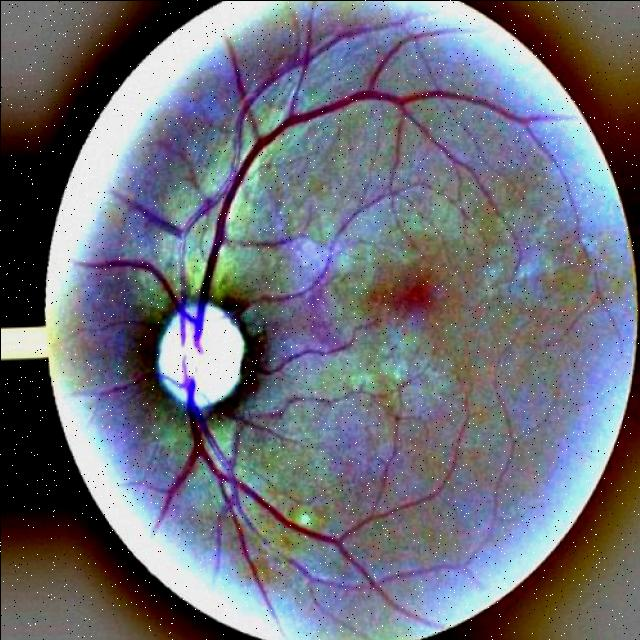Macula: (380, 271, 449, 323)
Nerves: (168, 83, 539, 358), (157, 370, 455, 602)
Optic Disk: (131, 280, 255, 425)
